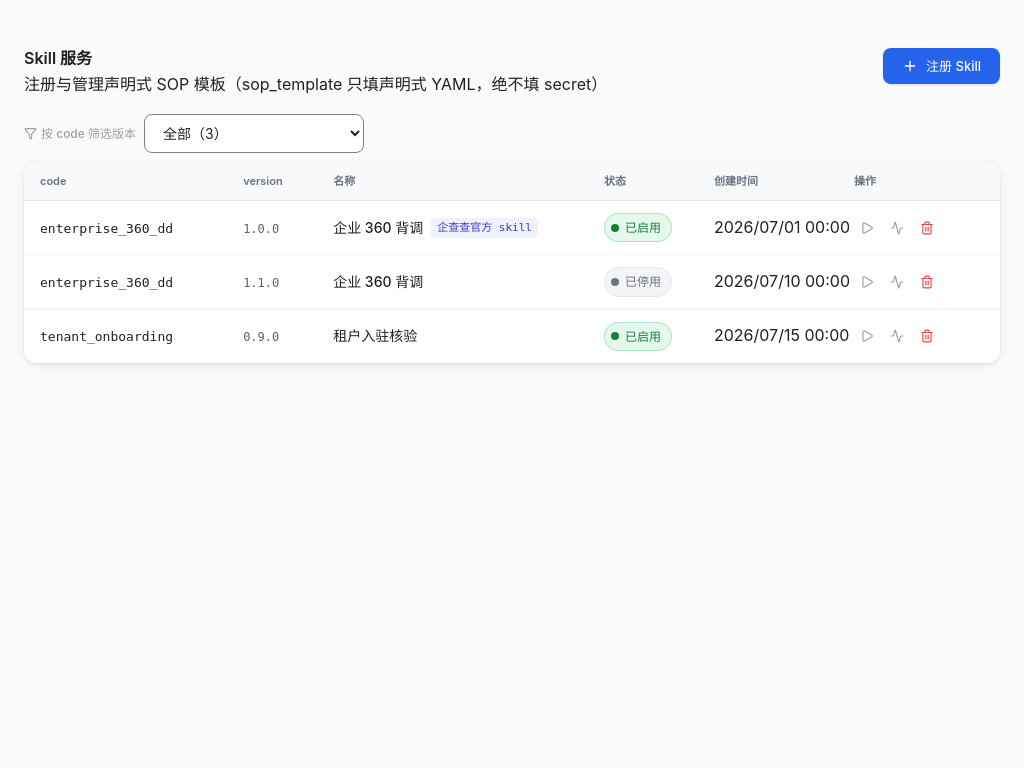
Test: SkillListView.vue (REQ-045 Task 4 / AC-10) › audit modal paginates executions with limit/offset
// open audit on first skill (skill-dd-1)
Click the button with test id "audit-btn" next to "2026/07/01 00:00". click: {"x": 897, "y": 228}
box: x1=884 y1=215 x2=910 y2=241
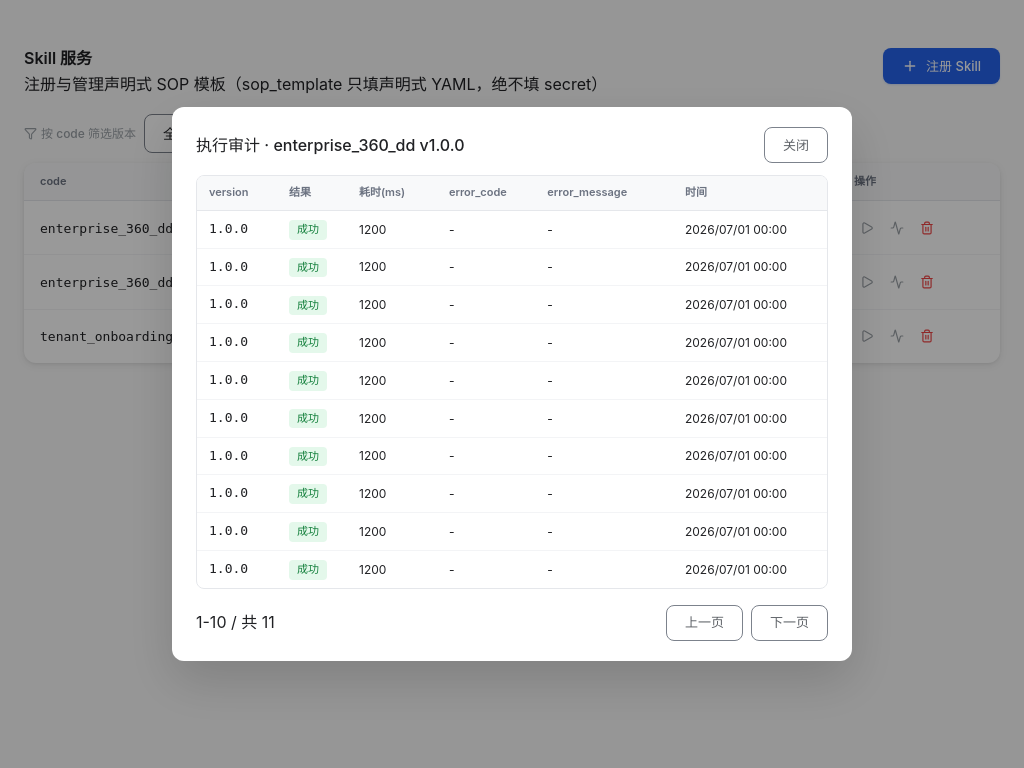
Now the number of elements with class "audit-row" is 10
Now the text with test id "audit-page-info" shows "1-10", box x1=196 y1=612 x2=275 y2=632
Now the text with test id "audit-page-info" shows "共 11", box x1=196 y1=612 x2=275 y2=632
Click the button with test id "audit-next". click: {"x": 790, "y": 623}
box: x1=751 y1=605 x2=828 y2=641
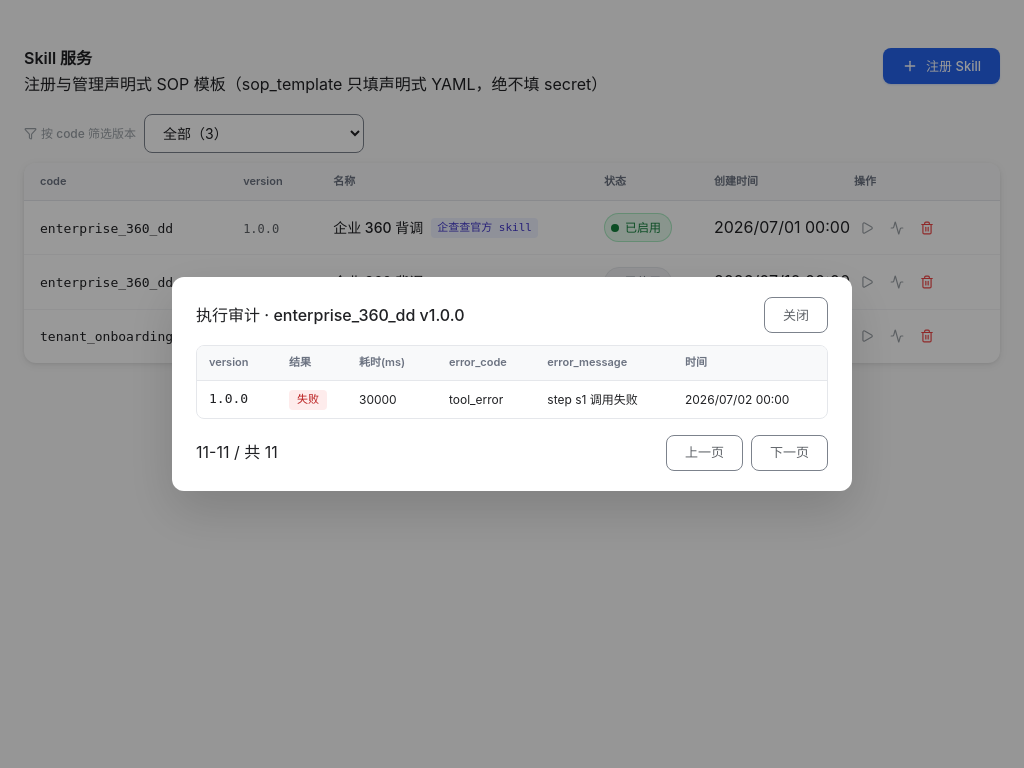
Now the number of elements with class "audit-row" is 1, box x1=209 y1=390 x2=789 y2=410
Now the text with test id "audit-page-info" shows "11-11", box x1=196 y1=442 x2=278 y2=462
Now the button with test id "audit-next" is disabled, box x1=751 y1=435 x2=828 y2=471
